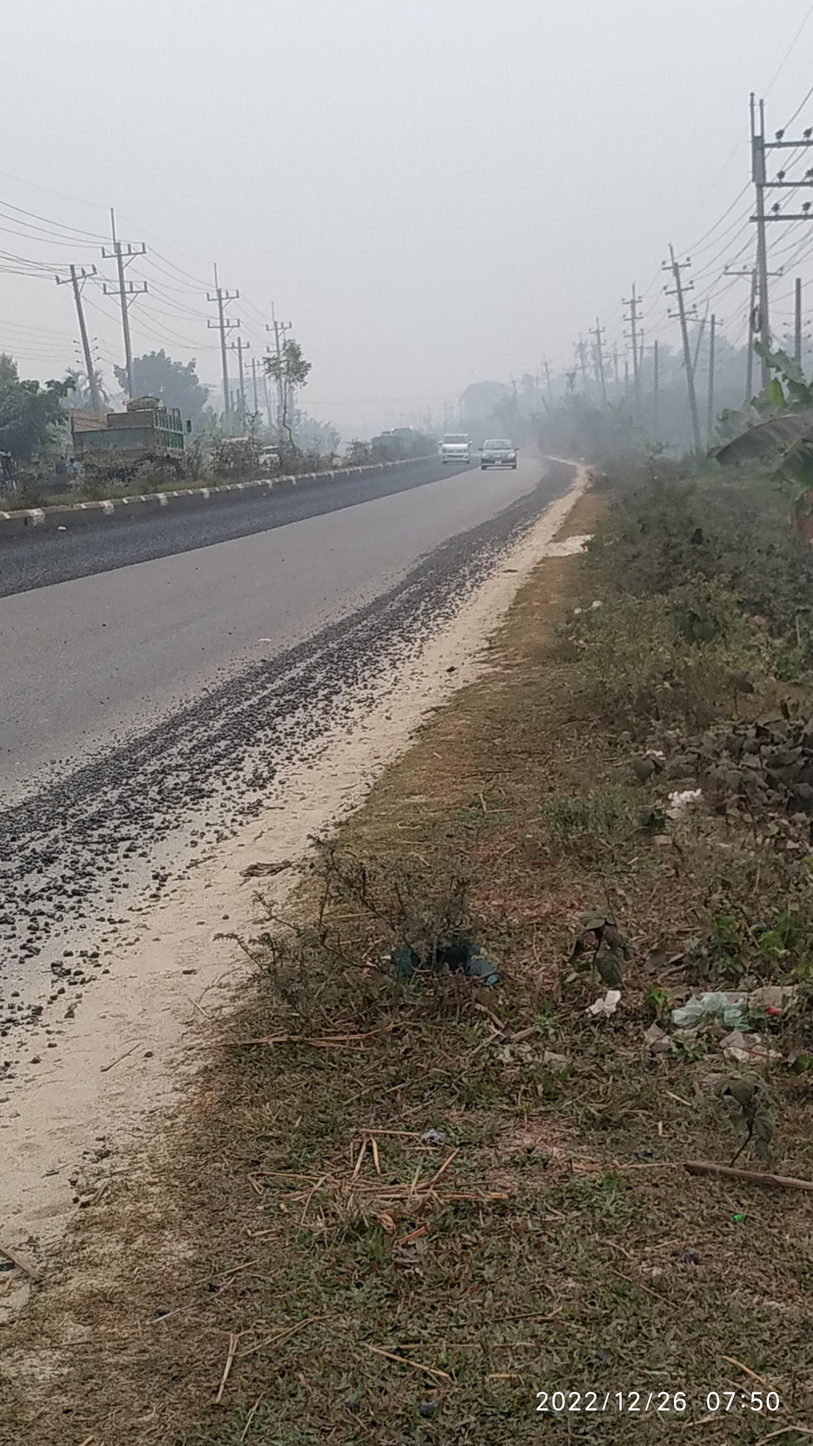Car: (468, 425, 534, 485), (430, 414, 479, 480)
Truck: (59, 375, 221, 491)
